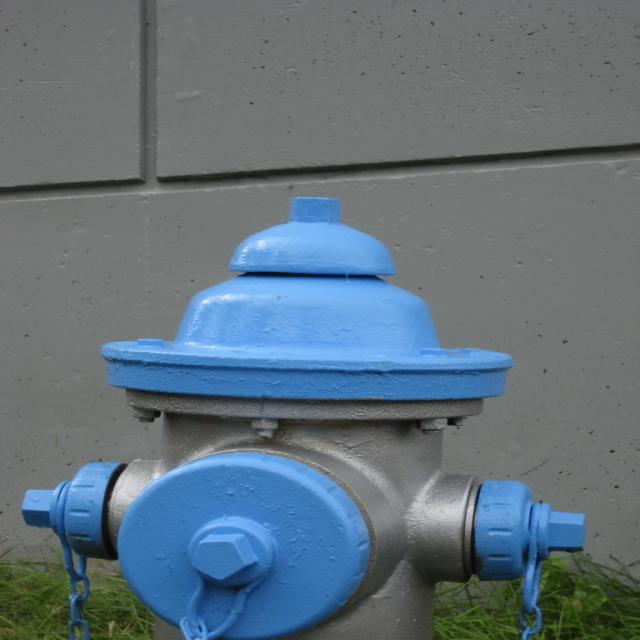fire_hydrant: (23, 200, 590, 639)
